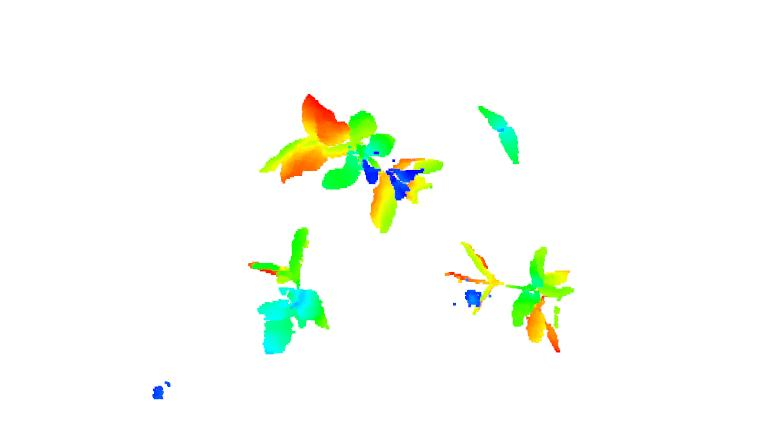mungbean: (259, 93, 448, 238), (443, 239, 576, 354), (241, 225, 332, 362), (470, 104, 528, 170)
